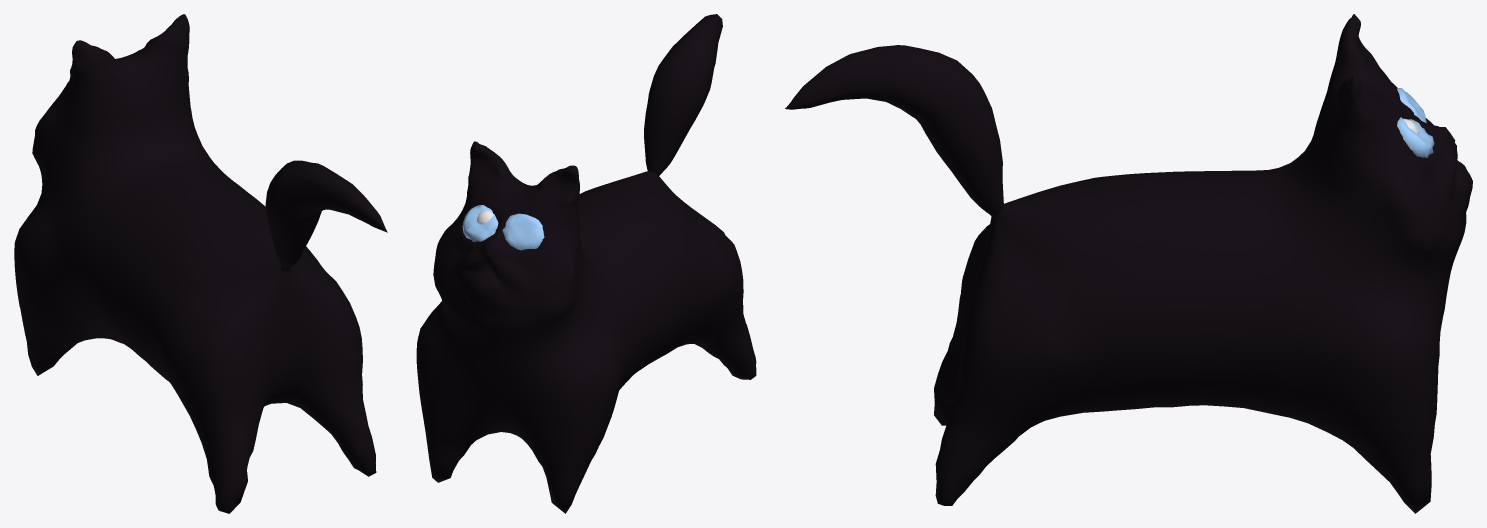
The model's file is gato.fbx.
3 views of the same model, side by side, from view 1: azimuth 30°, elevation 25°; view 2: azimuth 150°, elevation 25°; view 3: azimuth 270°, elevation 25° (orthographic). The views are drawn at different scales.
Visible parts, largest first — view 1: Mball.011; view 2: Mball.011, Mball.002; view 3: Mball.011, Mball.002.
Part boxes in pixels (x1=…): Mball.011: x1=14, y1=14, x2=387, y2=513; Mball.011: x1=416, y1=14, x2=756, y2=513; Mball.002: x1=462, y1=205, x2=544, y2=250; Mball.011: x1=785, y1=14, x2=1472, y2=513; Mball.002: x1=1397, y1=88, x2=1434, y2=157.
Bounding box in the file's own units: 267 × 445 × 648.
